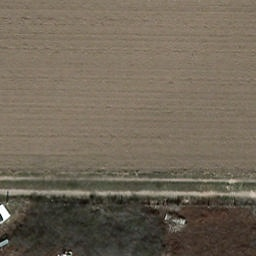car: (0, 204, 11, 242)
